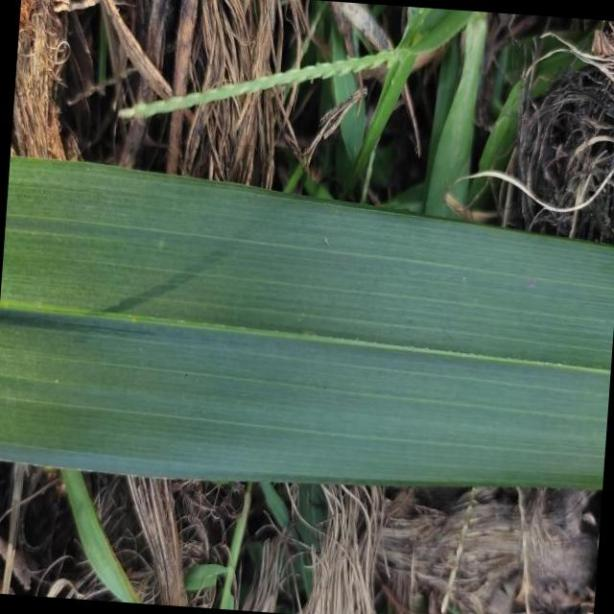Healthy: (0, 156, 614, 492)
